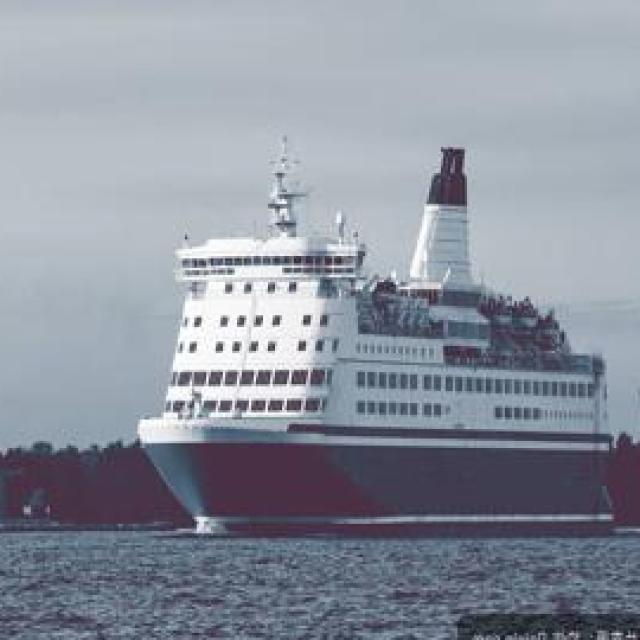passenger ship: (140, 138, 630, 528)
